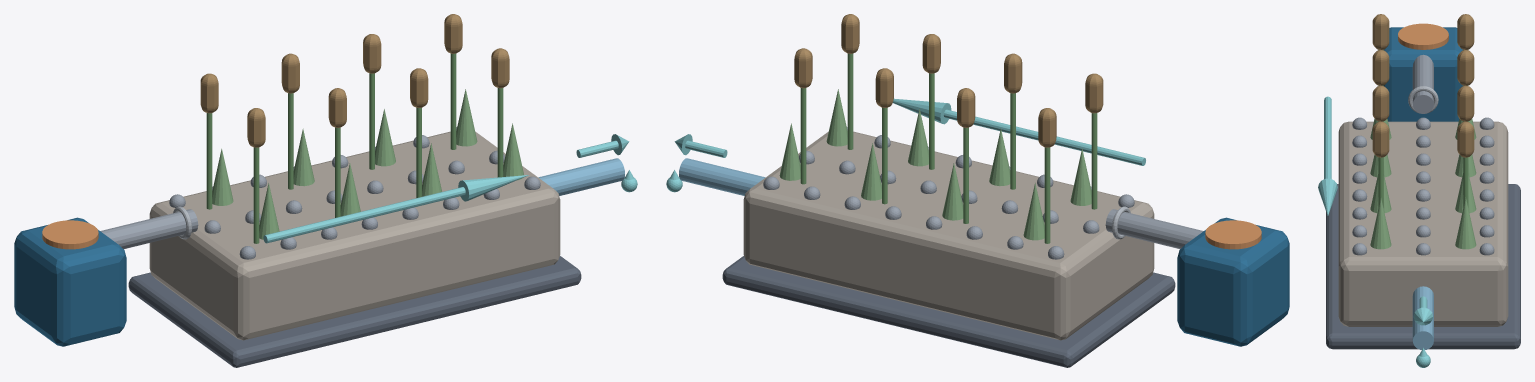
The picture shows the model from 3 angles, left to right: view 1: azimuth 30°, elevation 25°; view 2: azimuth 150°, elevation 25°; view 3: azimuth 270°, elevation 25°; orthographic projection. The views are drawn at different scales.
Parts seen in each view (by area): view 1: part_lecho, part_plantas, part_impermeabilizacion, part_trampa_grasas, deco_flujo, part_entrada, part_salida_tratada, part_trampa_grasas_tapa; view 2: part_lecho, part_plantas, part_impermeabilizacion, part_trampa_grasas, deco_flujo, part_entrada, part_salida_tratada, part_trampa_grasas_tapa; view 3: part_lecho, part_plantas, part_impermeabilizacion, part_trampa_grasas, deco_flujo, part_entrada, part_salida_tratada, part_trampa_grasas_tapa.
Part boxes in pixels (x1,y1,x2,y2): part_lecho: [149, 127, 560, 340]; part_plantas: [200, 14, 523, 243]; part_impermeabilizacion: [128, 256, 581, 367]; part_trampa_grasas: [14, 217, 126, 346]; deco_flujo: [263, 134, 629, 243]; part_entrada: [100, 206, 198, 248]; part_salida_tratada: [538, 158, 637, 195]; part_trampa_grasas_tapa: [42, 220, 98, 249]; part_lecho: [743, 127, 1154, 340]; part_plantas: [779, 14, 1103, 243]; part_impermeabilizacion: [722, 256, 1175, 367]; part_trampa_grasas: [1177, 217, 1289, 346]; deco_flujo: [674, 98, 1145, 165]; part_entrada: [1105, 206, 1203, 248]; part_salida_tratada: [666, 158, 765, 195]; part_trampa_grasas_tapa: [1205, 220, 1261, 249]; part_lecho: [1338, 117, 1508, 326]; part_plantas: [1370, 14, 1476, 249]; part_impermeabilizacion: [1326, 184, 1520, 349]; part_trampa_grasas: [1383, 27, 1462, 121]; deco_flujo: [1318, 96, 1433, 325]; part_entrada: [1408, 54, 1438, 113]; part_salida_tratada: [1412, 286, 1433, 367]; part_trampa_grasas_tapa: [1398, 23, 1448, 49].
Size of the model in its own units: 2.97 by 1.07 by 0.9568.
